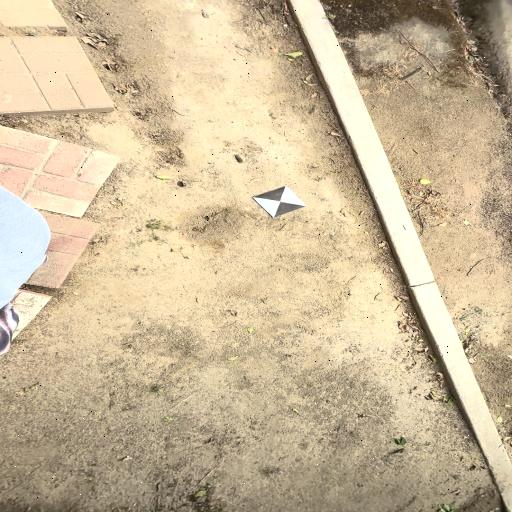target: (252, 186, 307, 217)
